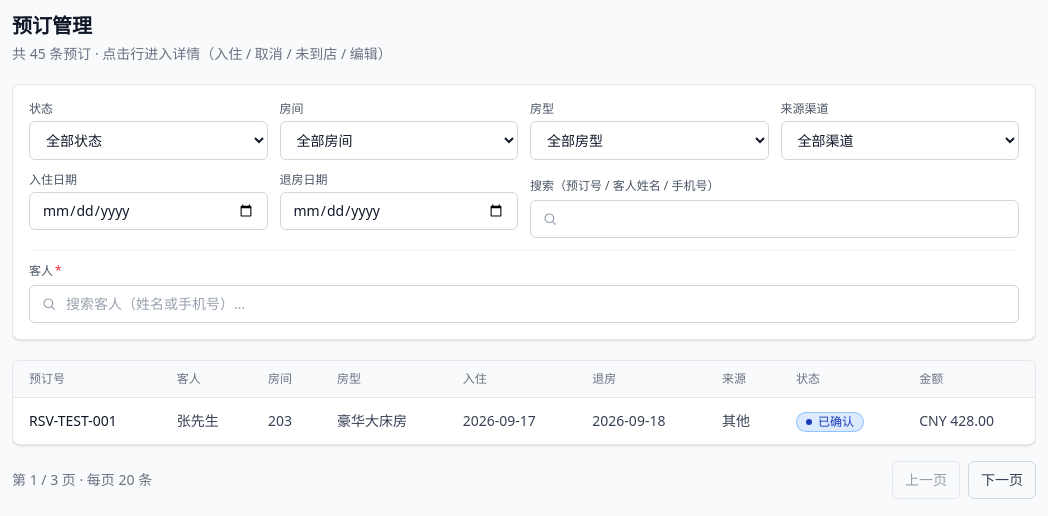
Test: ReservationsView › 分页：真实后端分页参数 + 翻页
expect the text "第 1 / 3 页 · 每页 20 条" is shown: met, box [12,470,152,490]
Click the button "下一页".
click(1002, 480)  # box [968,461,1036,499]
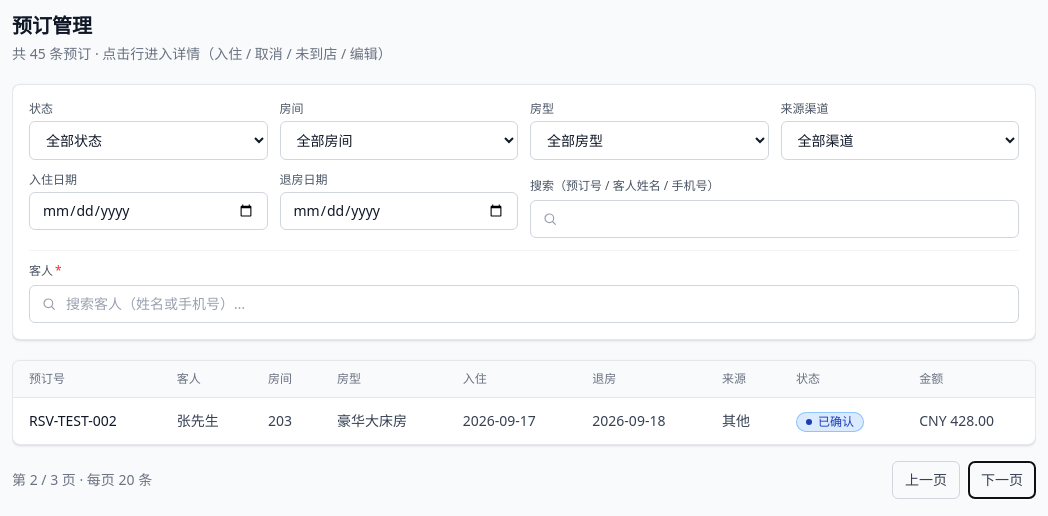
expect the text "第 2 / 3 页 · 每页 20 条" is shown: met, box [12,470,152,490]
